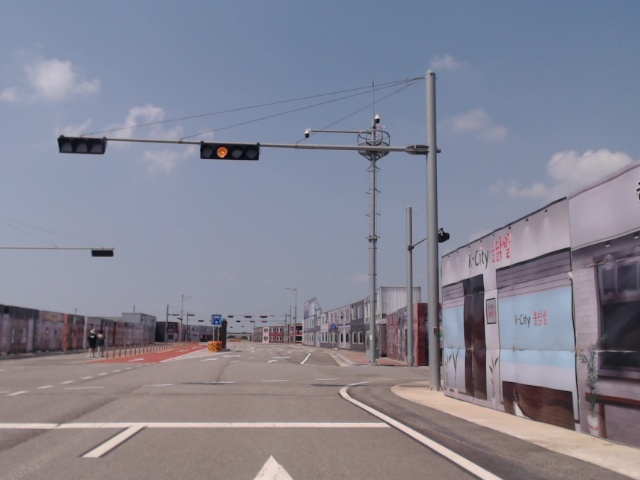orange_4: (200, 140, 260, 162)
